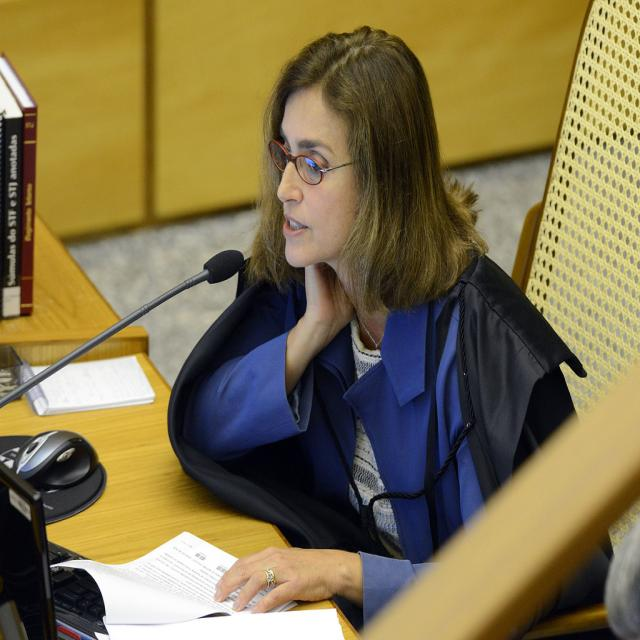Computer-mouse: (12, 427, 99, 492)
